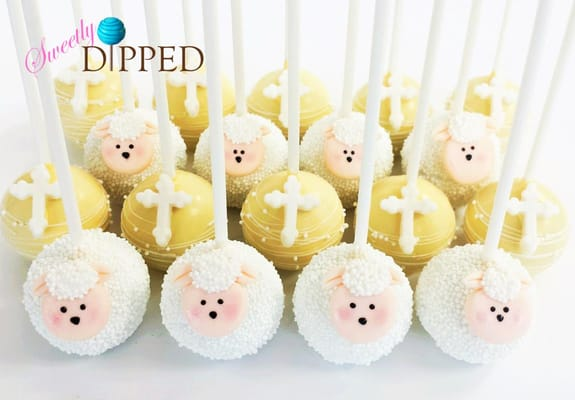curry: (159, 240, 284, 362), (292, 244, 413, 366)
sushi: (239, 170, 347, 271)
